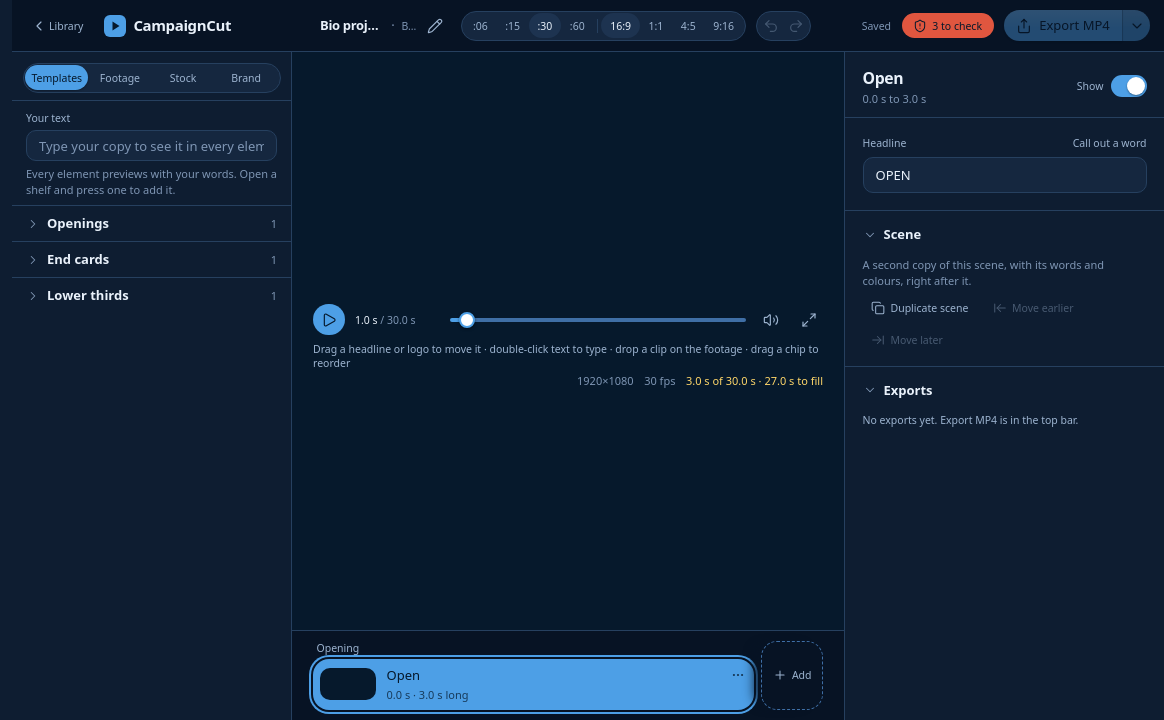
Test: Editor element library (M31) › an added element offers Remove from spot; the spot's own does not
The image size is (1164, 720).
expect the field labelled "Headline" is shown: met, box [862,157,1146,193]
expect the button "Remove from spot" is not shown: met
Click the button with aria-label "Add a scene" at (792, 676), box [761,642,823,710]
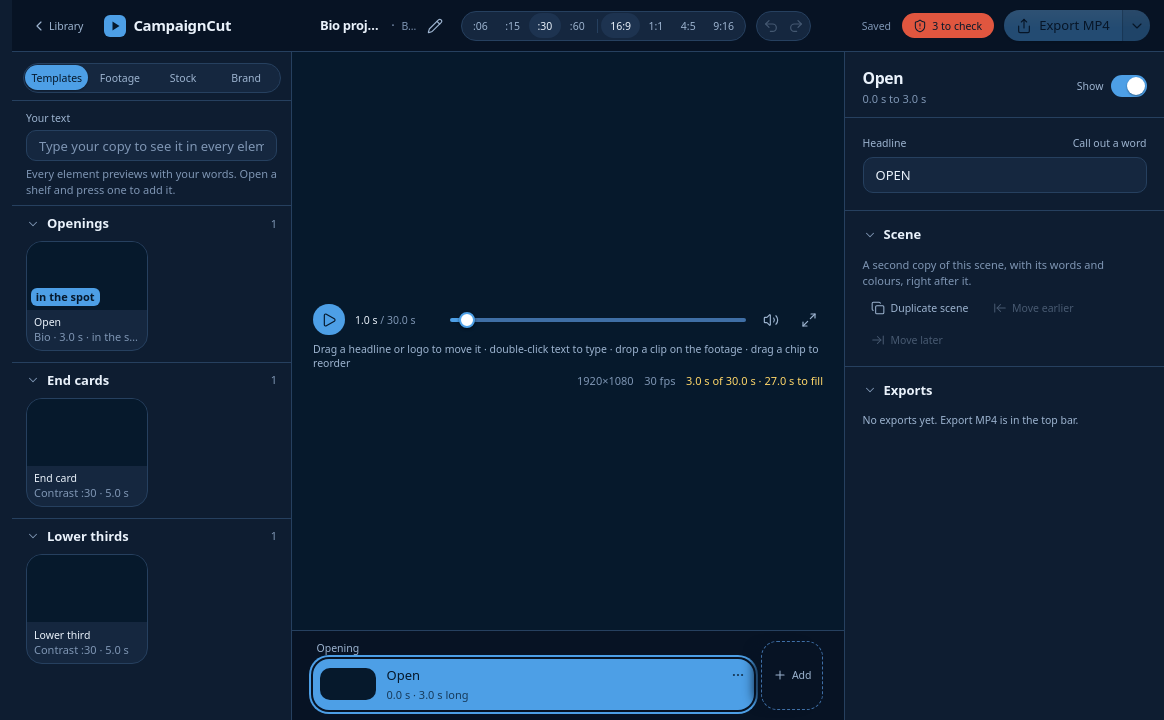
Click the button with aria-label "Add Lower third from Contrast :30" at (87, 609), box [26,554,148,664]
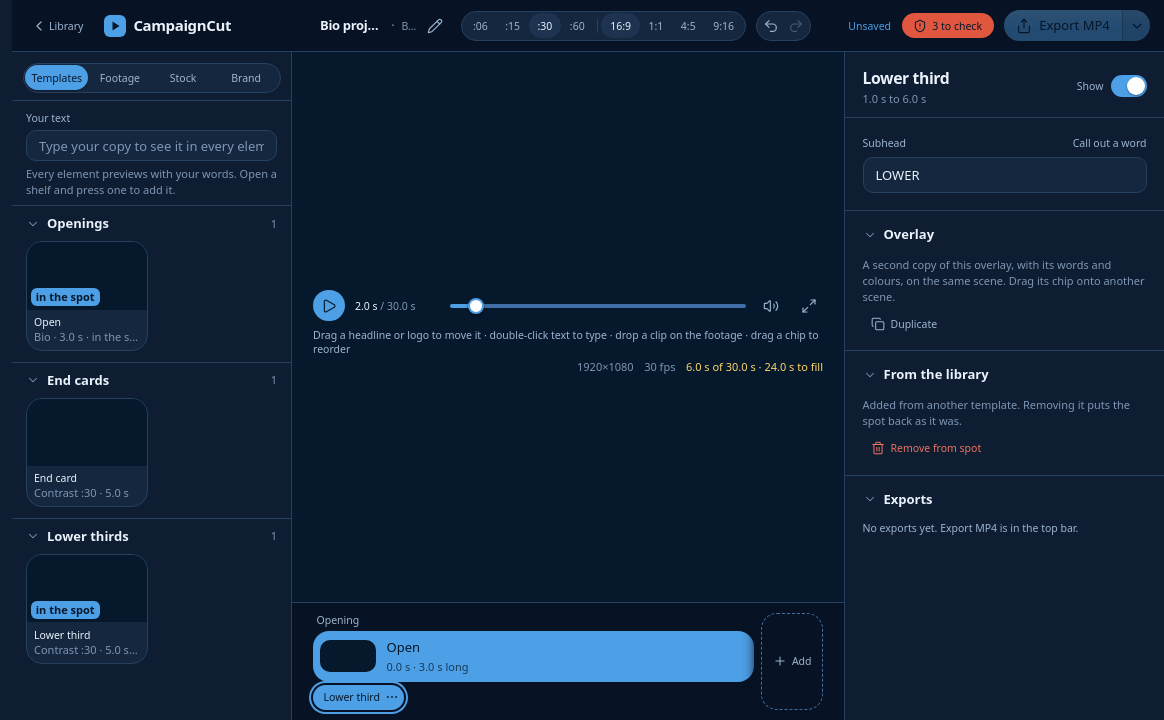
expect the field labelled "Subhead" is shown: met, box [862,157,1146,193]
Click the button "Remove from spot" at (926, 448), box [862,436,990,460]
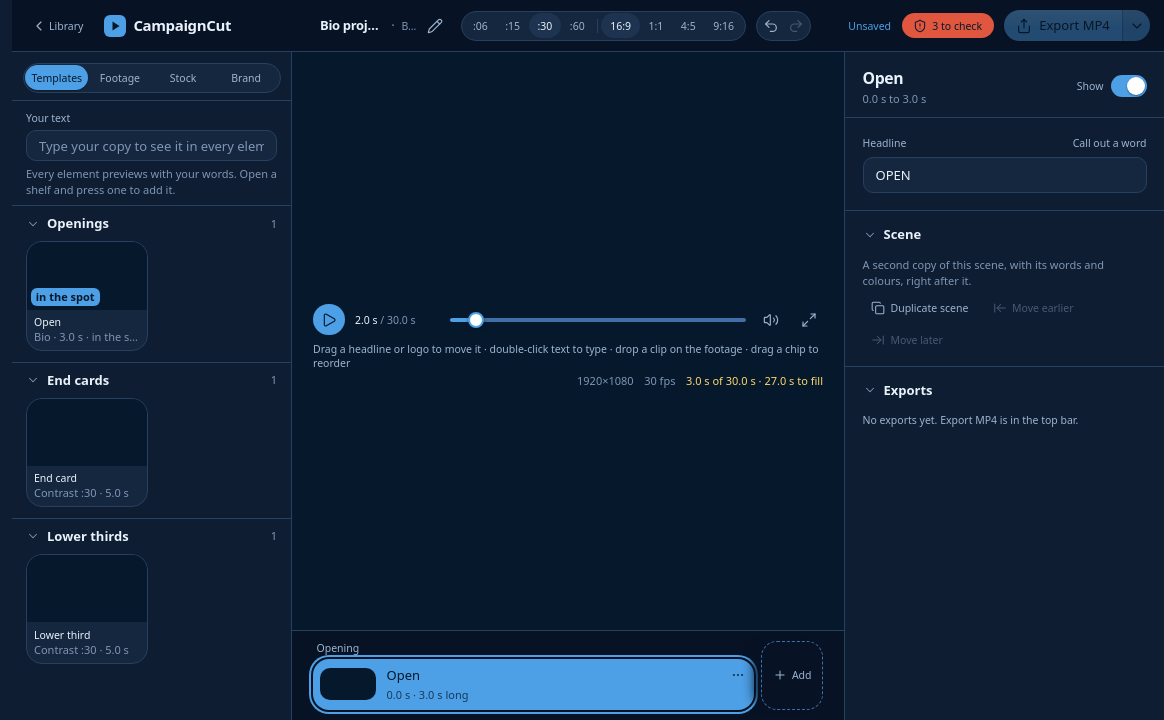
expect the button with test id "scene-9" is gone: met
expect the field labelled "Headline" is shown: met, box [862,157,1146,193]
